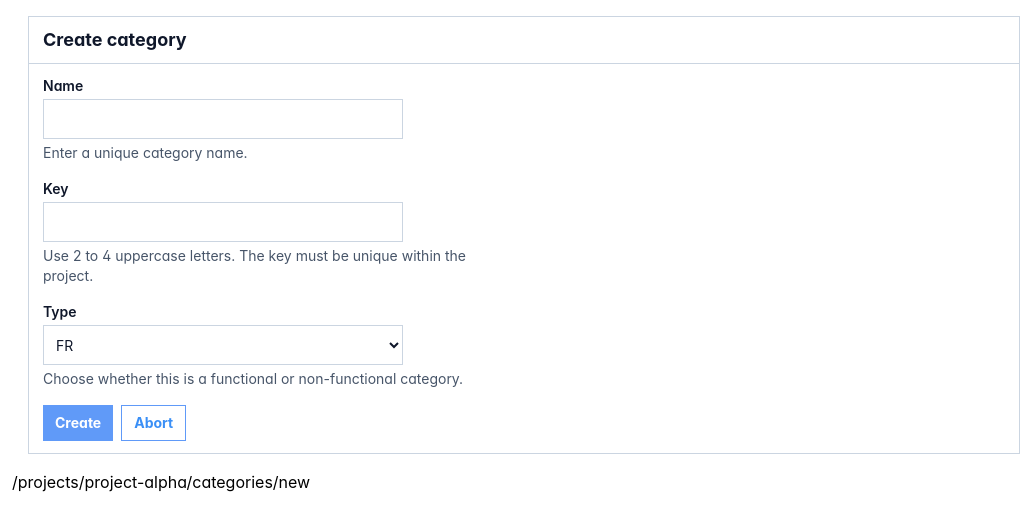
Test: ProjectCategories FormPage › validates required and unique create fields.
Click the button "Create" at (78, 423), box x1=43 y1=405 x2=113 y2=441
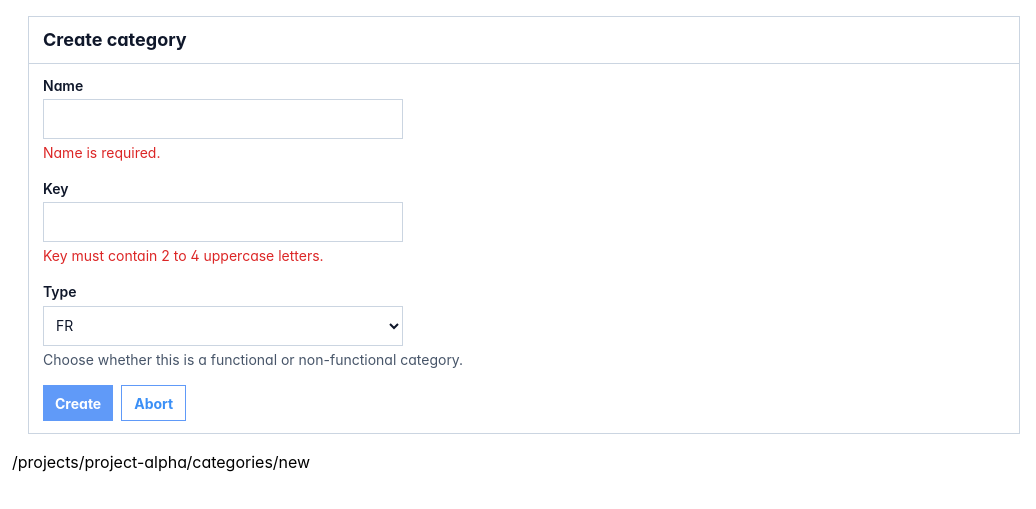
Expected: the text "Name is required." is shown, x1=43 y1=144 x2=160 y2=161
Expected: the text "Key must contain 2 to 4 uppercase letters." is shown, x1=43 y1=247 x2=324 y2=264
Type "Authentication" into the field labelled "Name" at (223, 119), box x1=43 y1=99 x2=403 y2=139
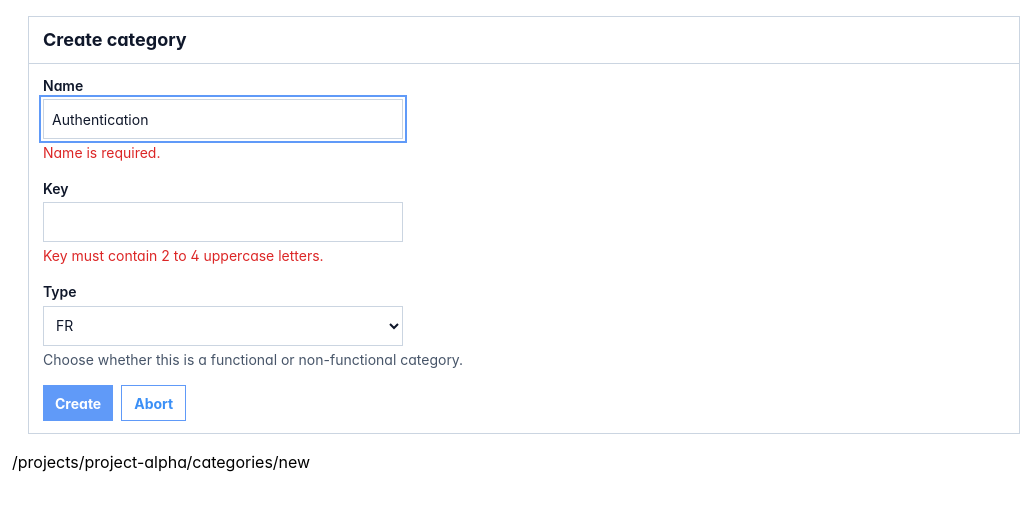
Type "AUTH" into the field labelled "Key" at (223, 222), box x1=43 y1=202 x2=403 y2=242
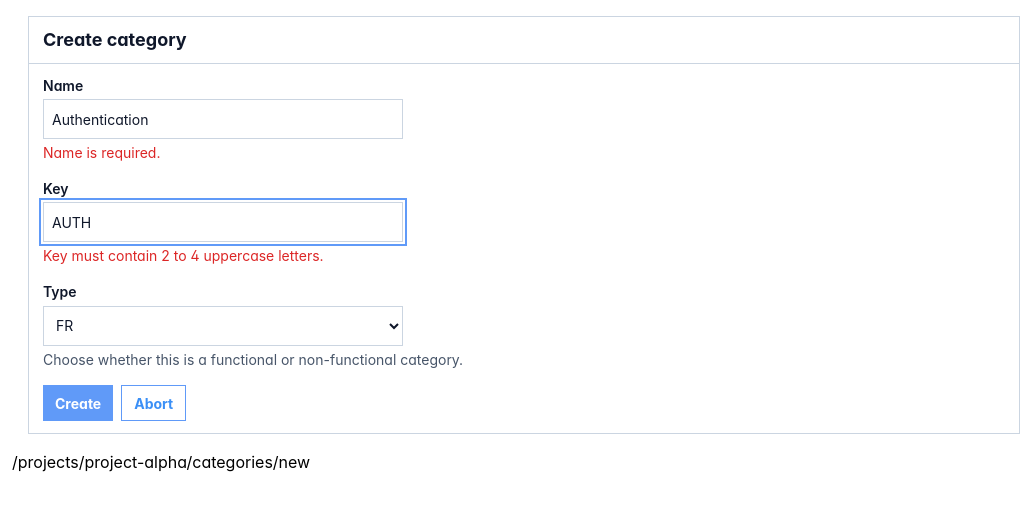
Click the button "Create" at (78, 403), box x1=43 y1=385 x2=113 y2=421
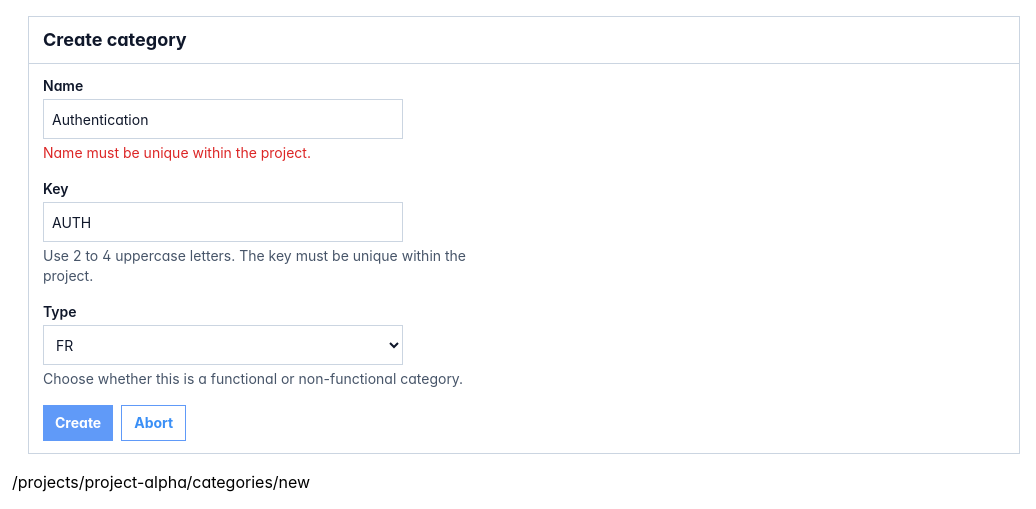
Expected: the text "Name must be unique within the project." is shown, x1=43 y1=144 x2=311 y2=161
